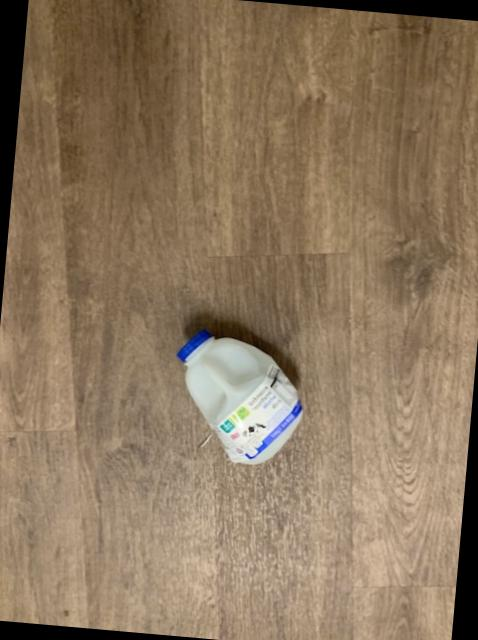plastic: (175, 331, 299, 464)
